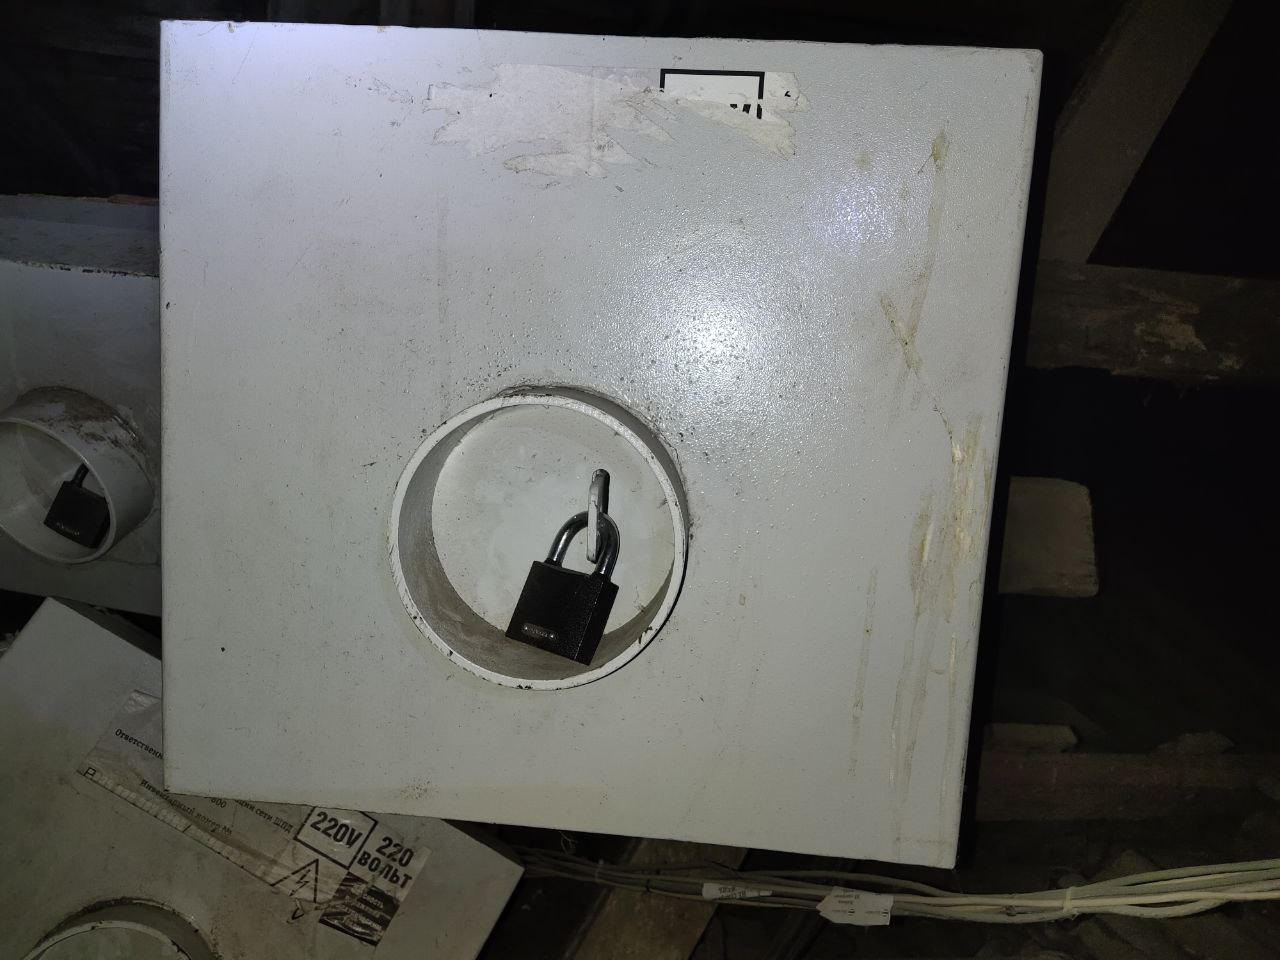shta-9: (155, 16, 1048, 872)
